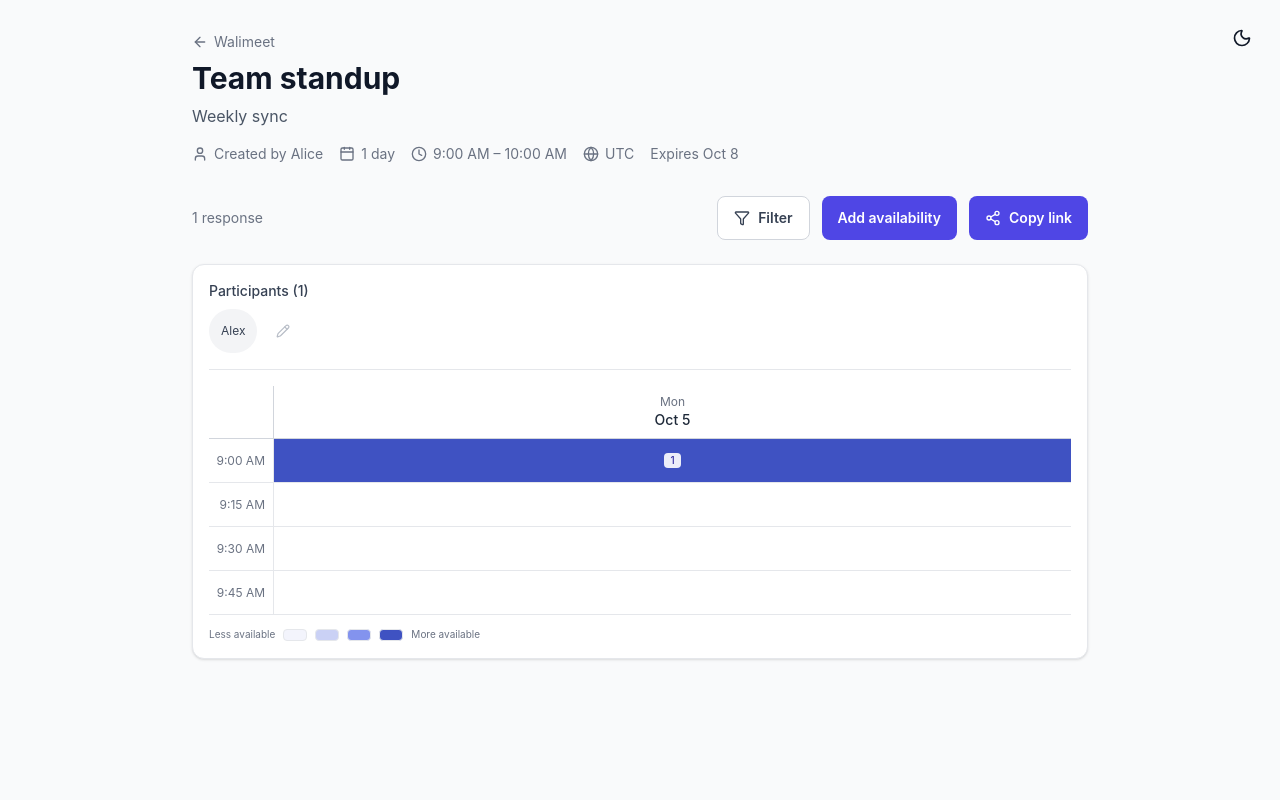
Test: edit existing response via pencil › loads the response onto the grid and submits under that name
The width and height of the screenshot is (1280, 800).
Expected: the heading "Team standup" is shown, [192,60,400,96]
Click the button named "Edit Alex" at (284, 331), box [262,309,306,353]
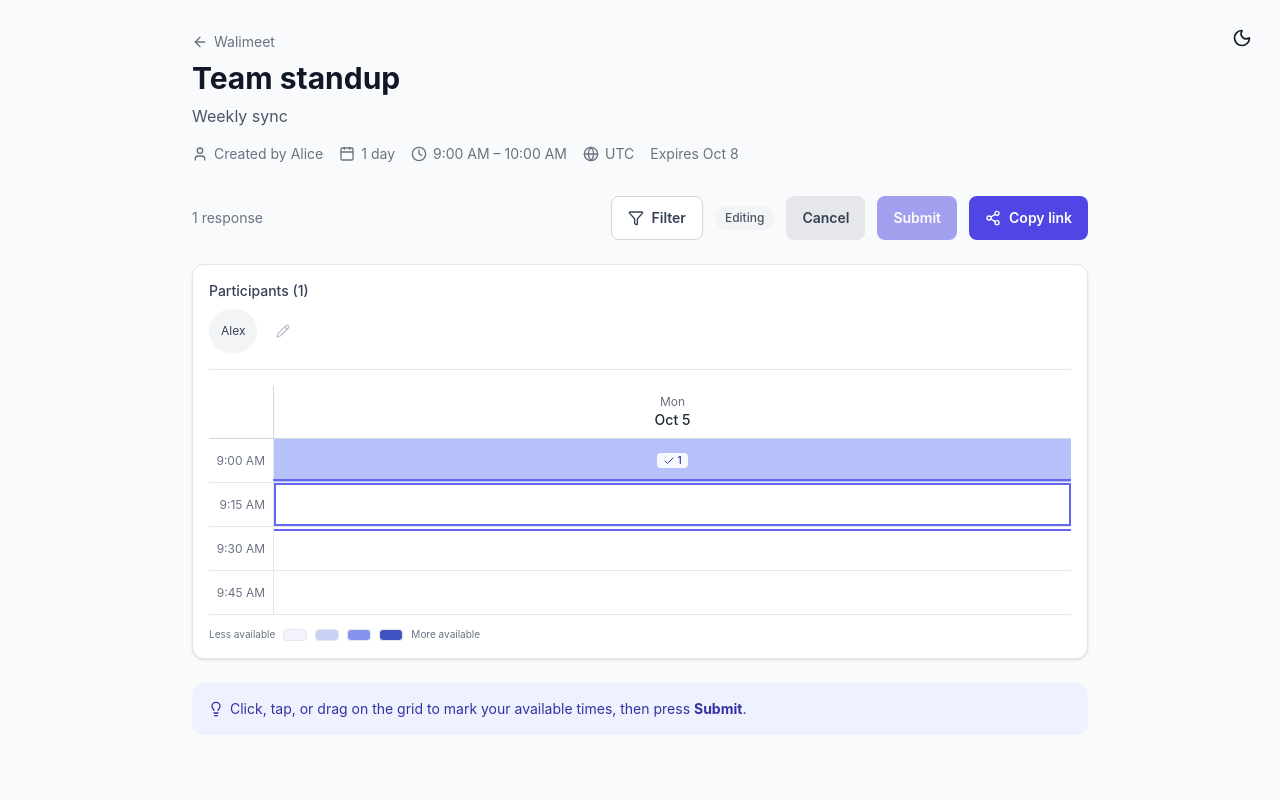
Expected: the button "Submit" is disabled, [877,196,957,240]
Type keys " "
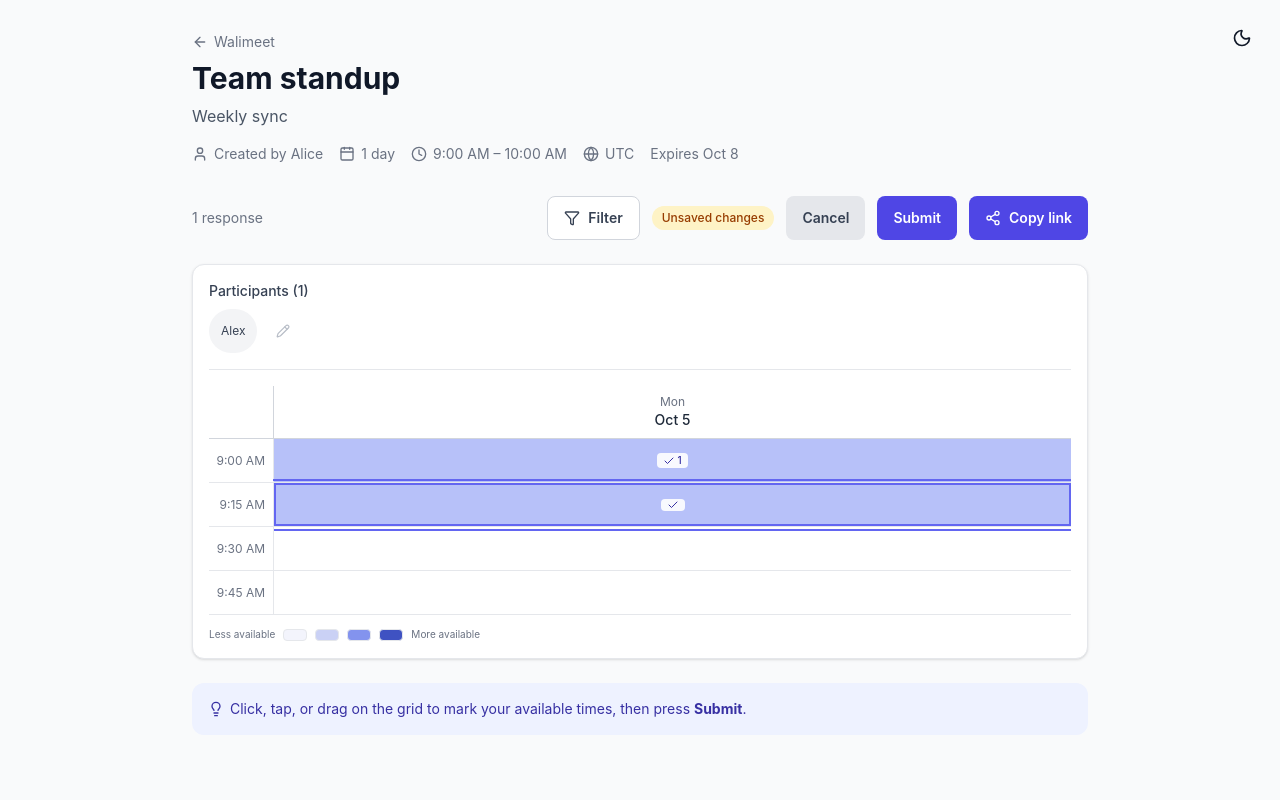
Click the button "Submit" at (917, 218), box [877,196,957,240]
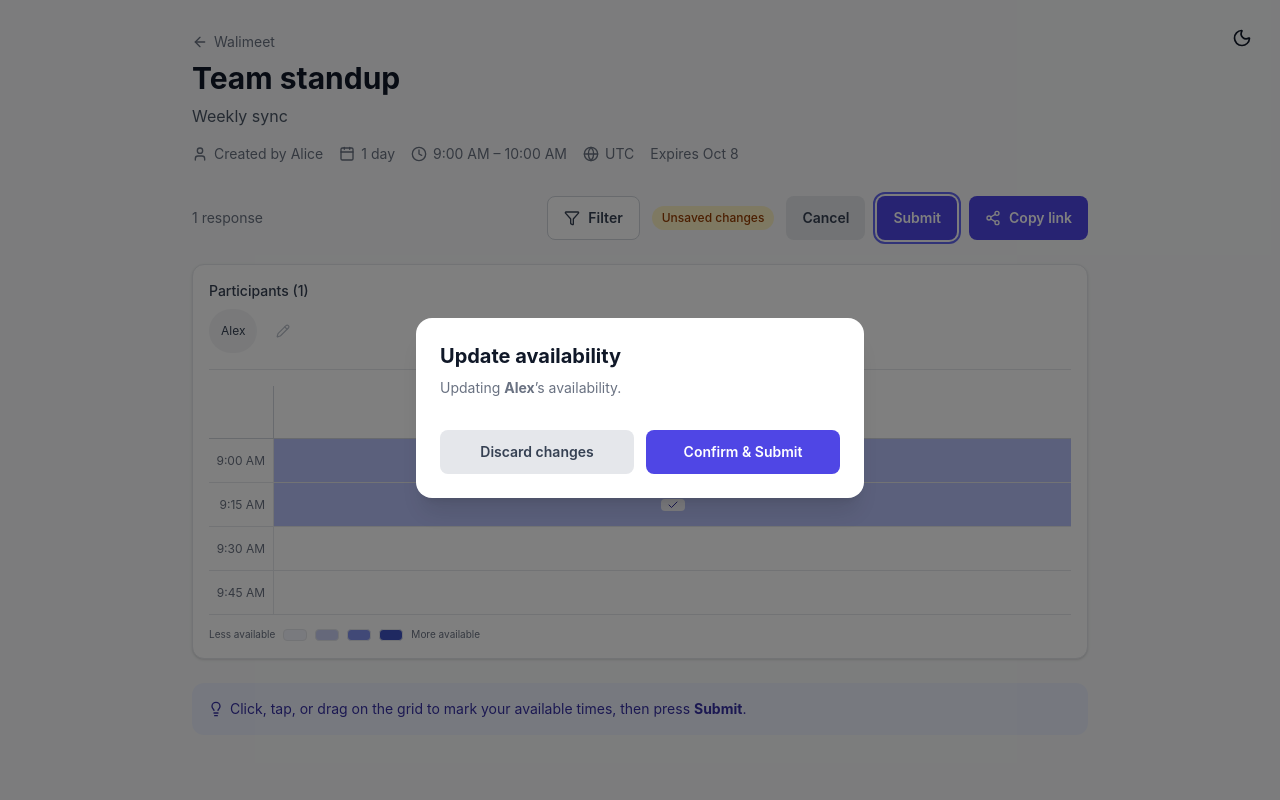
Expected: the dialog shows "Update availability", [440,344,621,368]
Expected: the dialog shows "Updating Alex’s availability", [416,318,864,498]
Click the button "Confirm & Submit" at (743, 452), box [646,430,840,474]
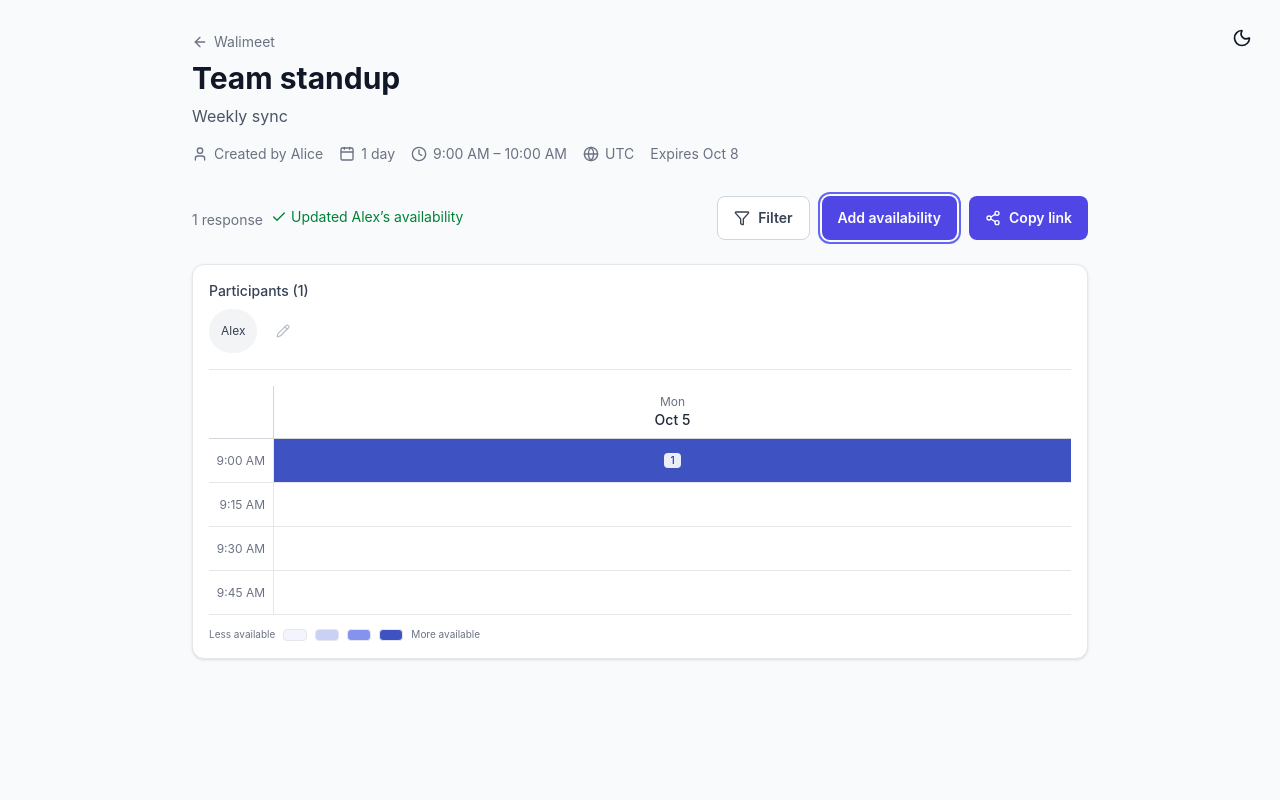
Expected: the text "Updated Alex’s availability" is shown, [271,206,463,226]
